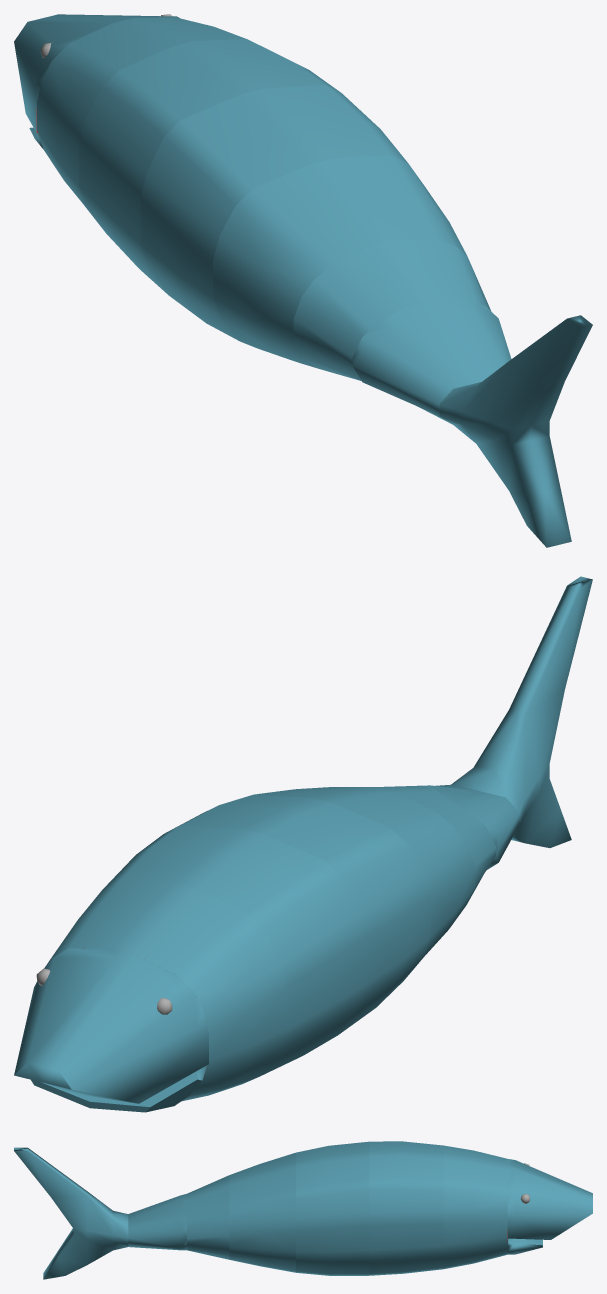
Rendered from Fish.fbx.
The picture shows the model from 3 angles, top to bottom: view 1: azimuth 30°, elevation 25°; view 2: azimuth 150°, elevation 25°; view 3: azimuth 270°, elevation 25°; orthographic projection. The views are drawn at different scales.
Parts seen in each view (by area): view 1: polySurface20, polySurface21, polySurface19, polySurface23, polySurface22, polySurface24, polySurface18, polySurface17; view 2: polySurface17, polySurface19, polySurface18, polySurface20, polySurface23, polySurface21, polySurface22, polySurface24; view 3: polySurface19, polySurface20, polySurface18, polySurface21, polySurface23, polySurface17, polySurface22, polySurface24.
Part boxes in pixels (box(x1,y1,x2,y2)): polySurface20: box(140, 85, 407, 341); polySurface21: box(213, 155, 466, 368); polySurface19: box(79, 39, 340, 294); polySurface23: box(439, 315, 592, 547); polySurface22: box(293, 239, 490, 380); polySurface24: box(352, 296, 511, 423); polySurface18: box(37, 17, 245, 218); polySurface17: box(14, 14, 179, 149); polySurface17: box(14, 948, 208, 1112); polySurface19: box(102, 825, 365, 1076); polySurface18: box(52, 881, 287, 1101); polySurface20: box(170, 794, 430, 1034); polySurface23: box(451, 576, 592, 847); polySurface21: box(254, 787, 475, 956); polySurface22: box(373, 786, 495, 901); polySurface24: box(414, 784, 519, 869); polySurface19: box(369, 1141, 443, 1275); polySurface20: box(295, 1141, 369, 1275); polySurface18: box(443, 1145, 507, 1268); polySurface21: box(229, 1153, 295, 1272); polySurface23: box(14, 1147, 128, 1279); polySurface17: box(507, 1159, 592, 1254); polySurface22: box(187, 1175, 229, 1259); polySurface24: box(128, 1194, 186, 1250).
Bounding box in the file's own units: 2.38 × 2.42 × 9.98.
4 materials, 1 textured.
